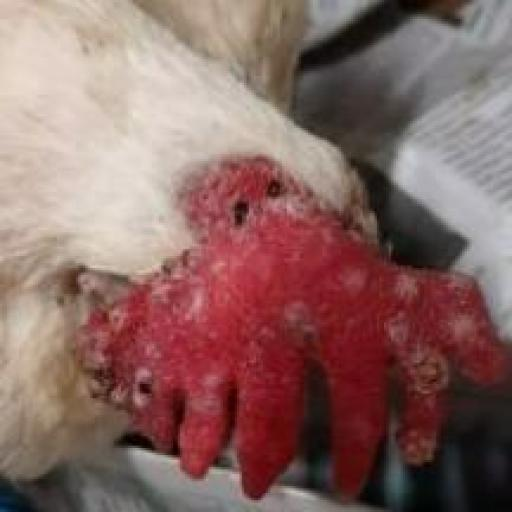disease: (56, 169, 501, 458)
